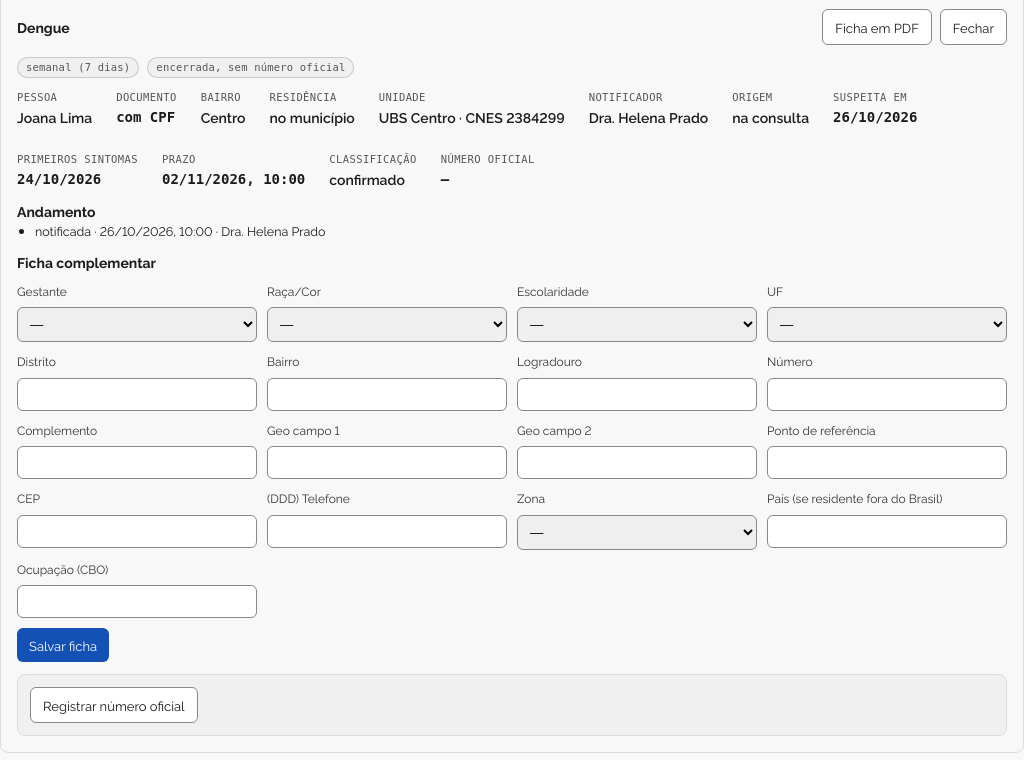
Test: NotificationDetail › número oficial: formato antes; vai com a transição para entered
Click the button "Registrar número oficial": [114, 705] box [30,687,198,723]
(page scrolled)
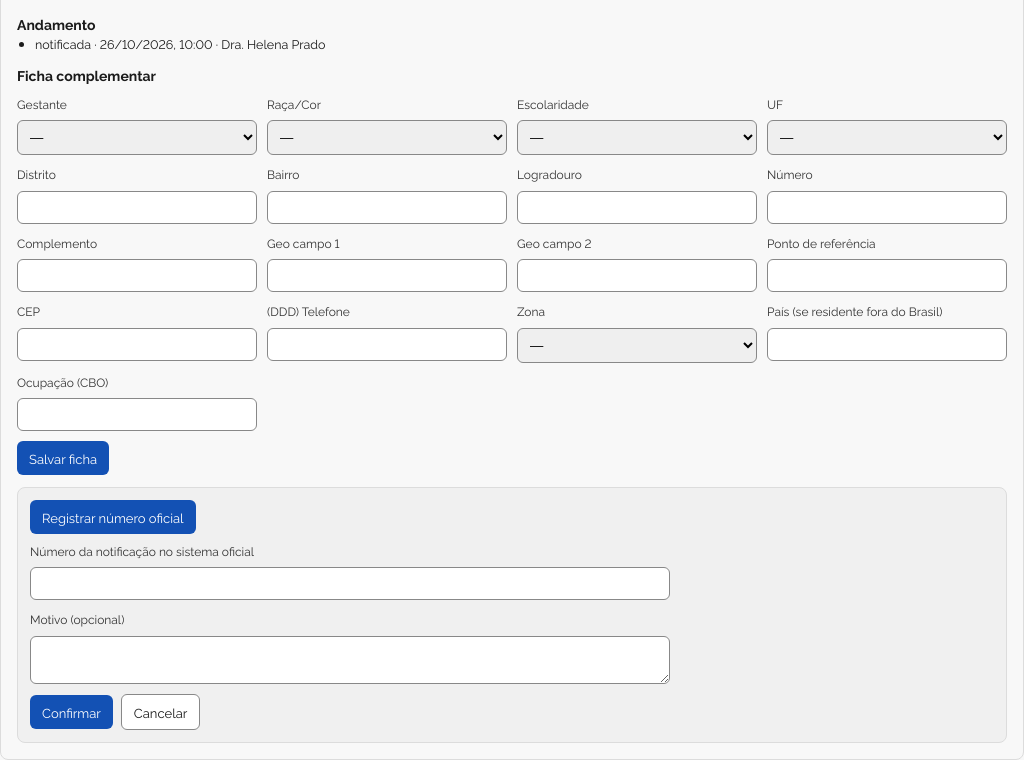
In the field labelled "Número da notificação no sistema oficial": [350, 584] box [30,567,670,600], type "12 34"
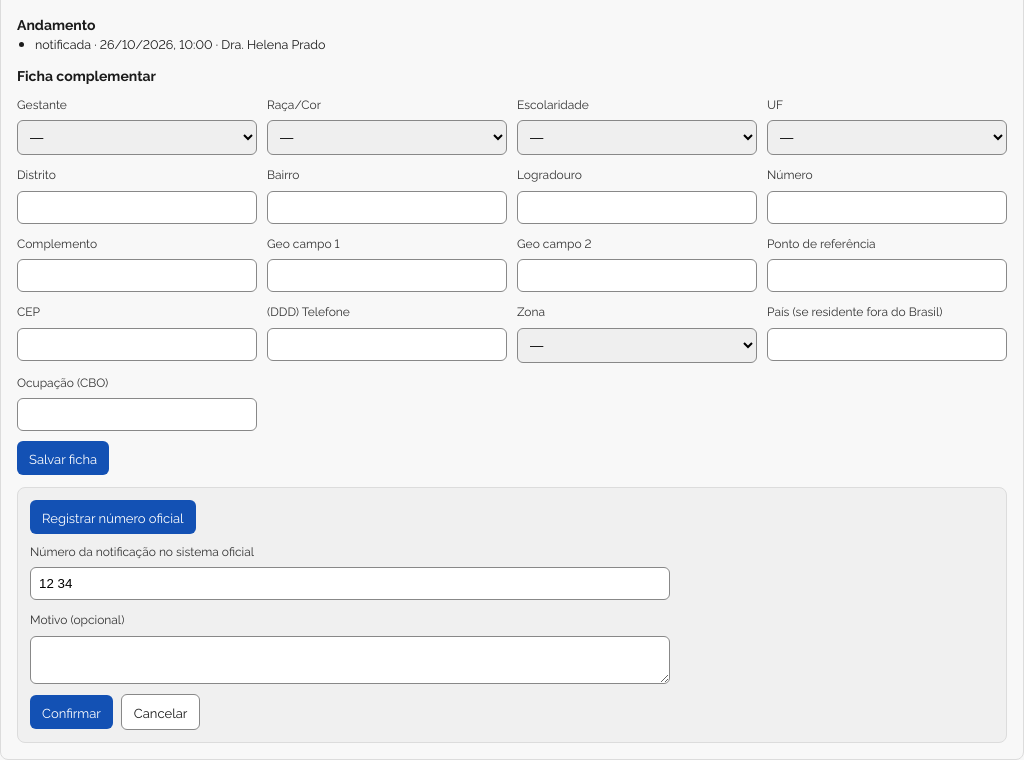
Click the button "Confirmar": [71, 712] box [30,695,113,729]
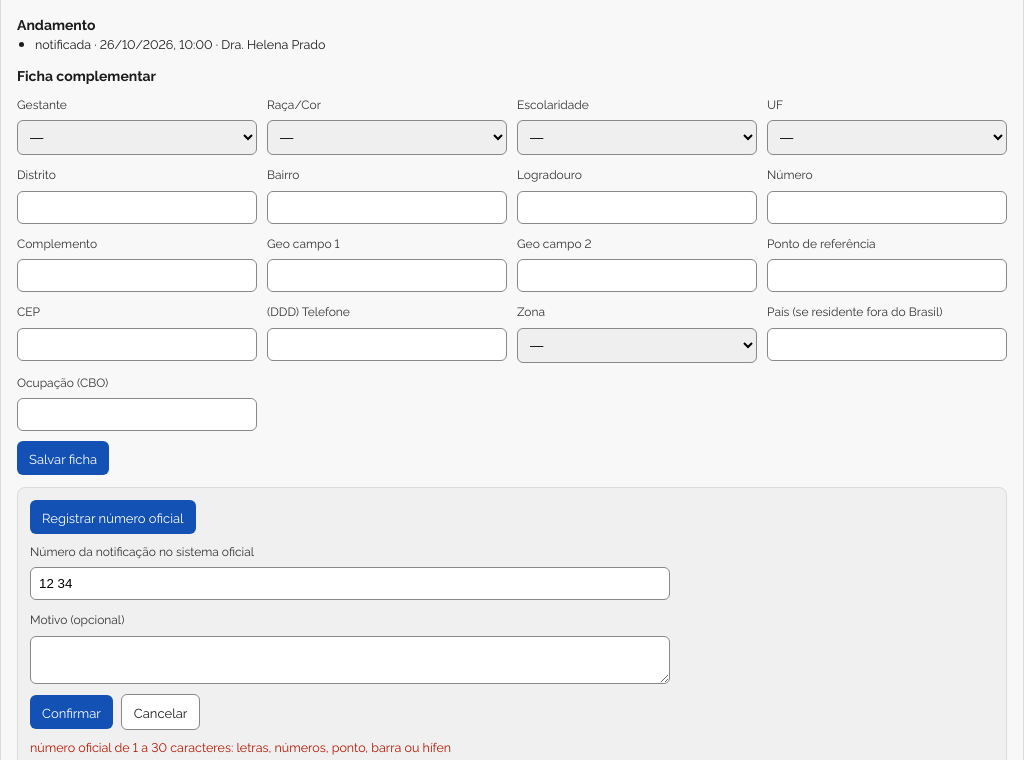
Expected: the message reads "número oficial de 1 a 30 caracteres: letras, números, ponto, barra ou hífen", [30,738,451,755]
Replace the text in the field labelled "Número da notificação no sistema oficial" with "1234567": [350, 584] box [30,567,670,600]
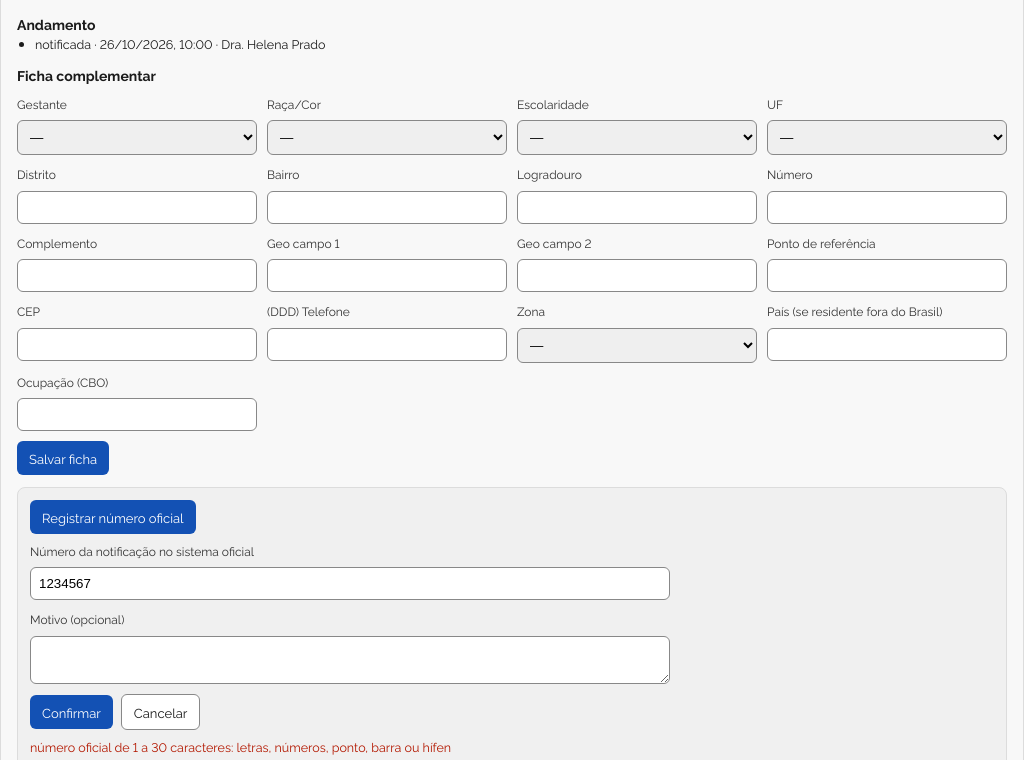
Click the button "Confirmar": [71, 712] box [30,695,113,729]
(page scrolled)
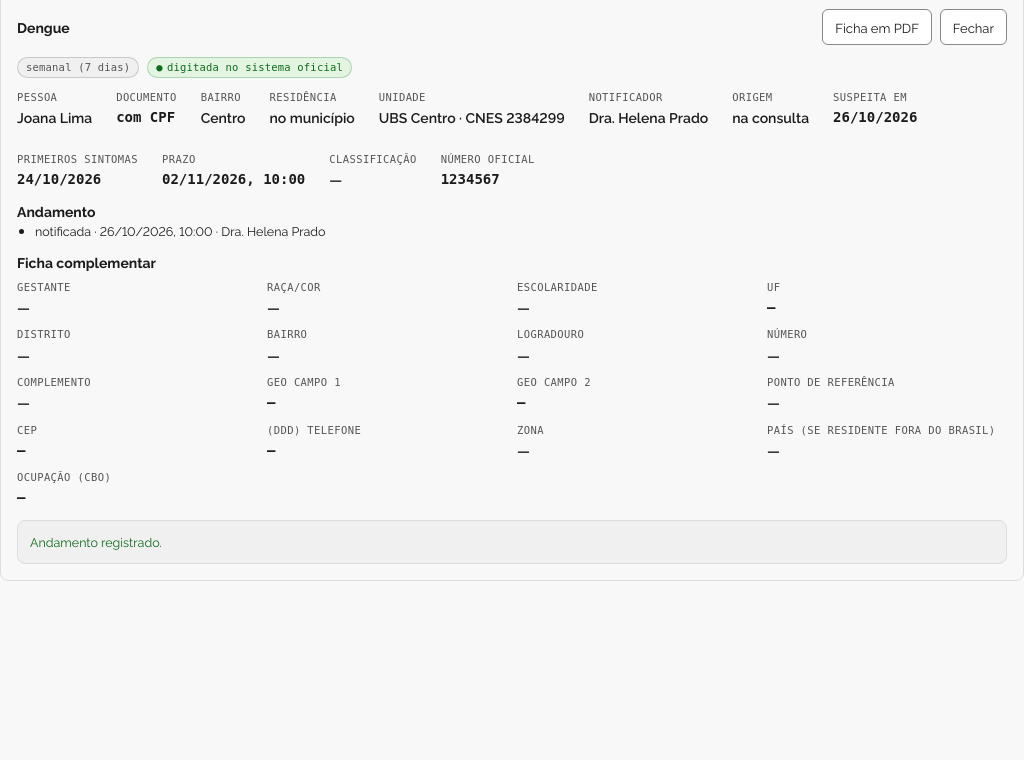
Expected: the text "1234567" is shown, [441,171,500,187]
Expected: the button "Registrar número oficial" is gone
